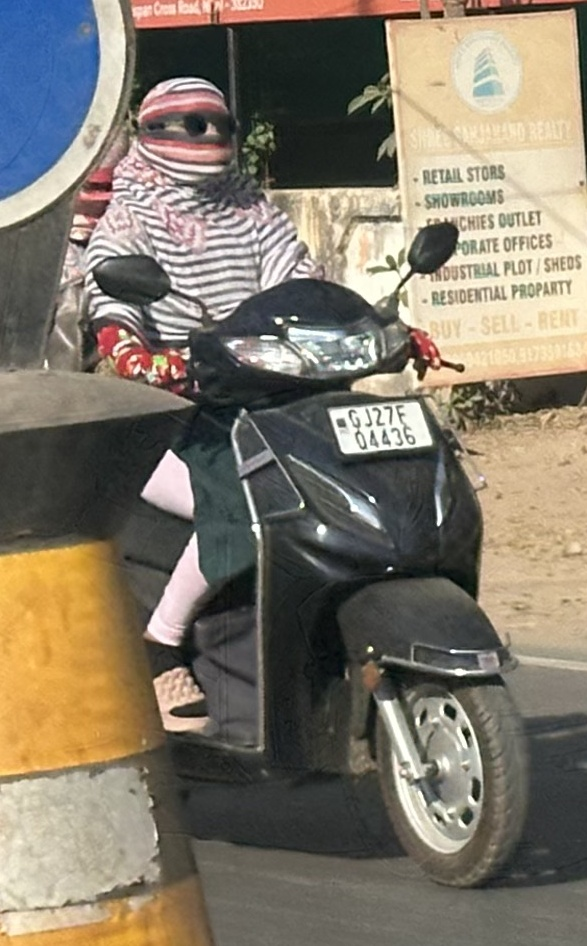BikeWithRider: (59, 53, 537, 901)
NoHelmet: (120, 68, 256, 189)
